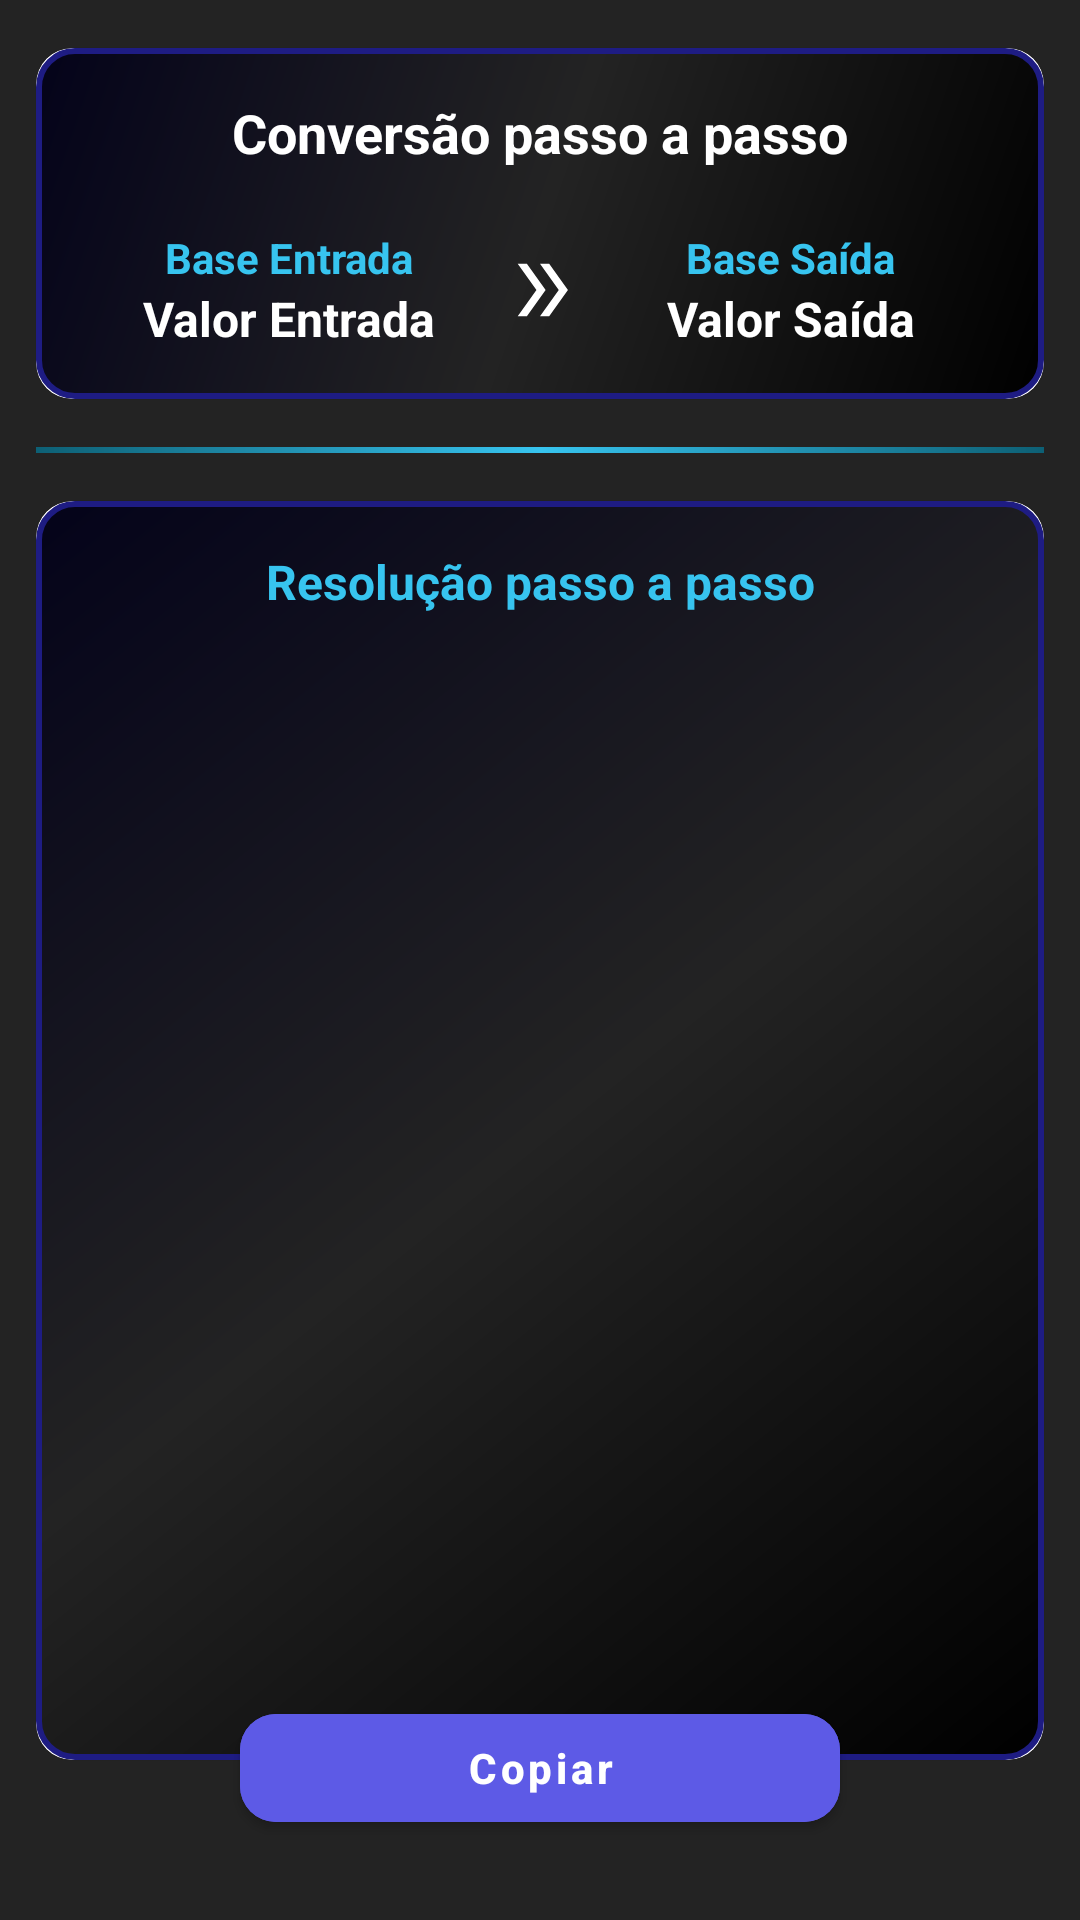

Point at icon controls on the screen. Image size 1080×1920, points as (x=x, y=y).
double arrow: (x=543, y=290)
